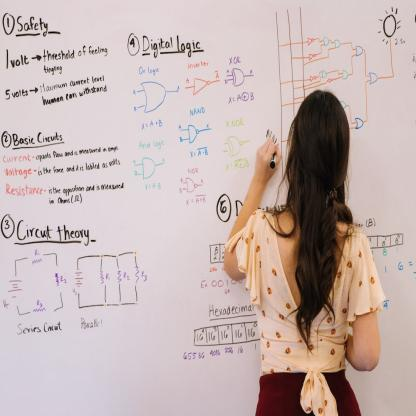Handwritten text: (4, 143, 124, 208), (3, 69, 113, 120), (13, 210, 92, 245), (10, 48, 115, 73), (142, 30, 205, 62), (12, 125, 65, 150), (15, 8, 52, 40), (19, 316, 67, 340), (205, 296, 256, 318)
Lecturer: (229, 84, 387, 416)
